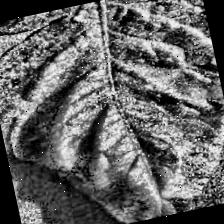spider mites: (121, 36, 183, 74), (123, 0, 187, 36)
